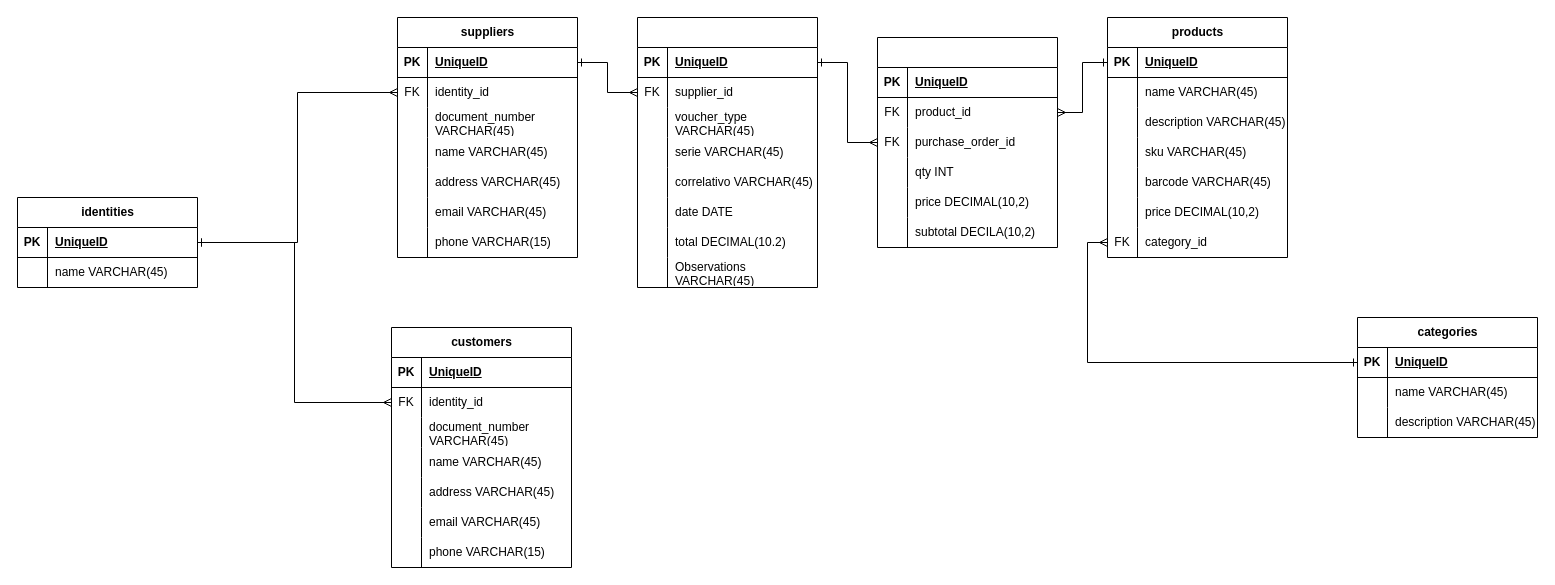
This 1555x585 diagram has some shape labels left out. The shapes that lost their labels are listed below. From the top down, each one's box as (x1, y1, x2, y2) in pixels, then its label:
(636, 16, 818, 288): purchase_orders
(876, 36, 1058, 248): product_purchase_order
